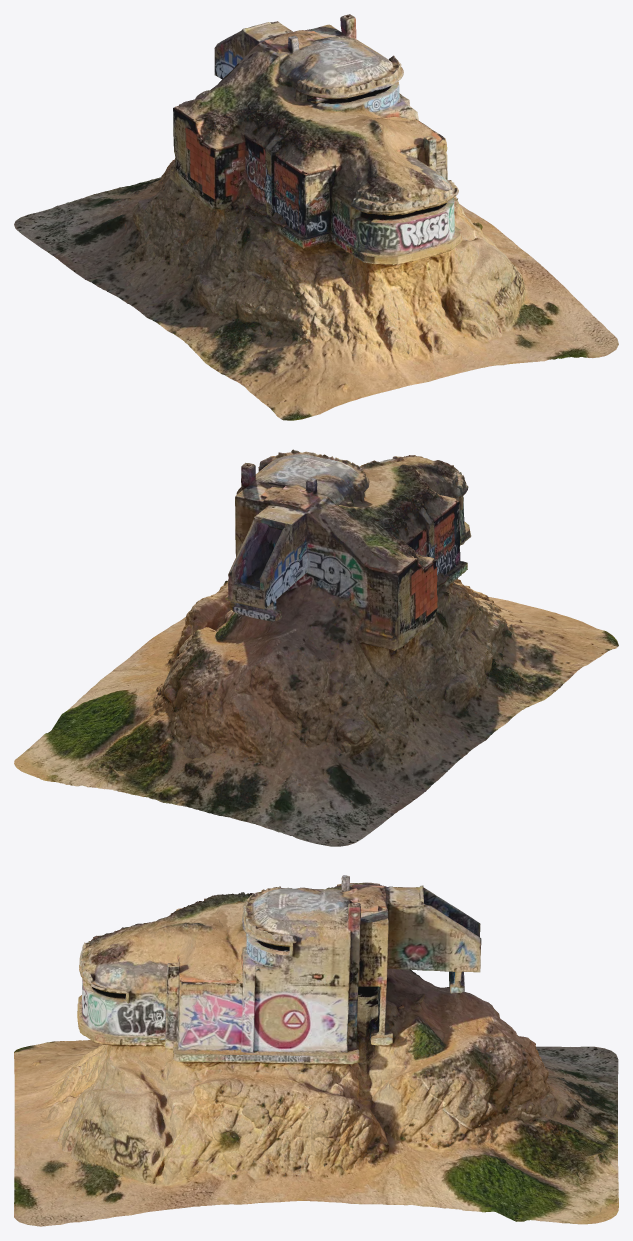
File: devils_slide_bunker_-_pacifica_ca.glb
3 views of the same model, one above another, from view 1: azimuth 30°, elevation 25°; view 2: azimuth 150°, elevation 25°; view 3: azimuth 270°, elevation 25° (orthographic). The views are drawn at different scales.
Parts seen in each view (by area): view 1: Object_2; view 2: Object_2; view 3: Object_2.
Part boxes in pixels (box(x1,y1,x2,y2)): Object_2: box(14, 14, 618, 420); Object_2: box(14, 449, 618, 846); Object_2: box(14, 875, 618, 1226).
Bounding box in the file's own units: 16.66 × 11.47 × 23.97.
1 material, 1 textured.
